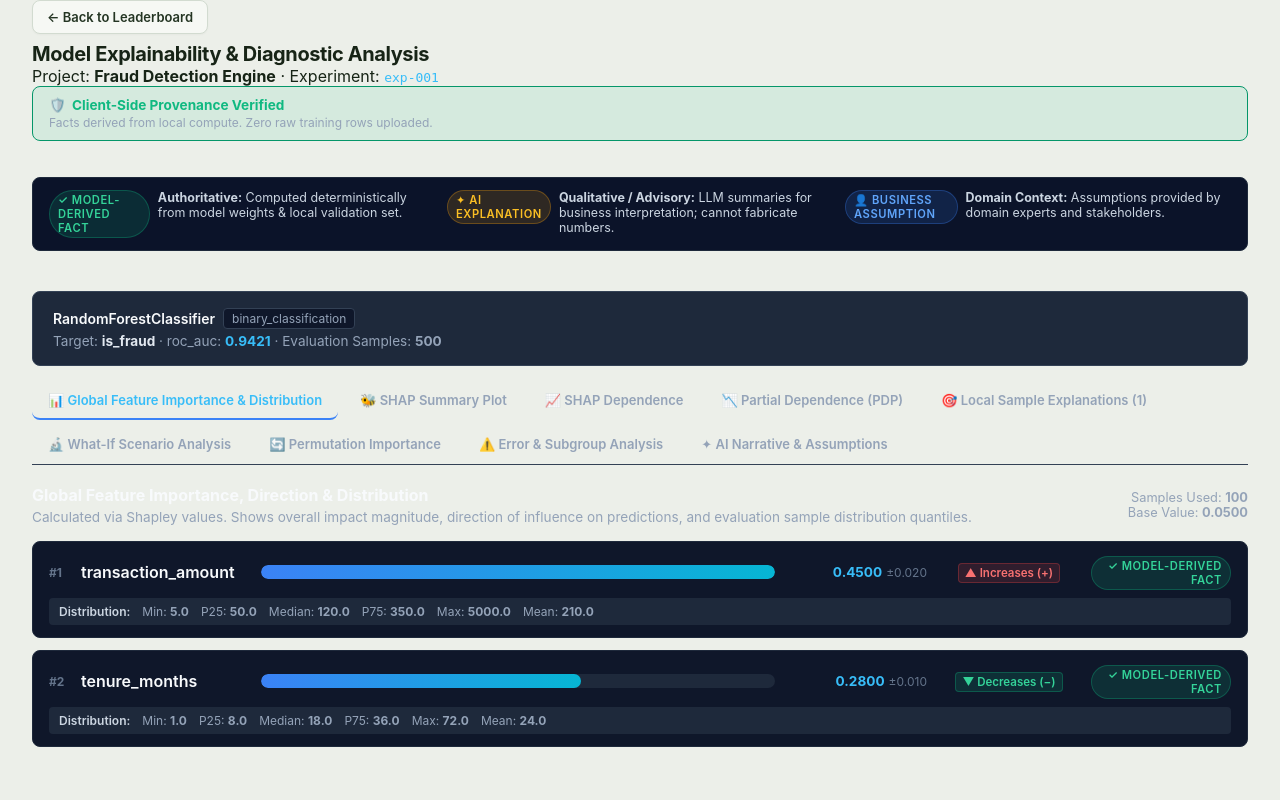
Test: ExplainabilityView › executes What-If scenario analysis and prominently displays the non-causal disclaimer
The image size is (1280, 800).
Expected: the heading "RandomForestClassifier" is shown, x1=53 y1=310 x2=215 y2=327
Note: Switch to What-If Scenario Analysis tab
What coordinates should you click on to do the following:
click the button "🔬 What-If Scenario Analysis"
I would click on:
 (140, 445)
Its box is x1=32 y1=426 x2=247 y2=464.
(page scrolled)
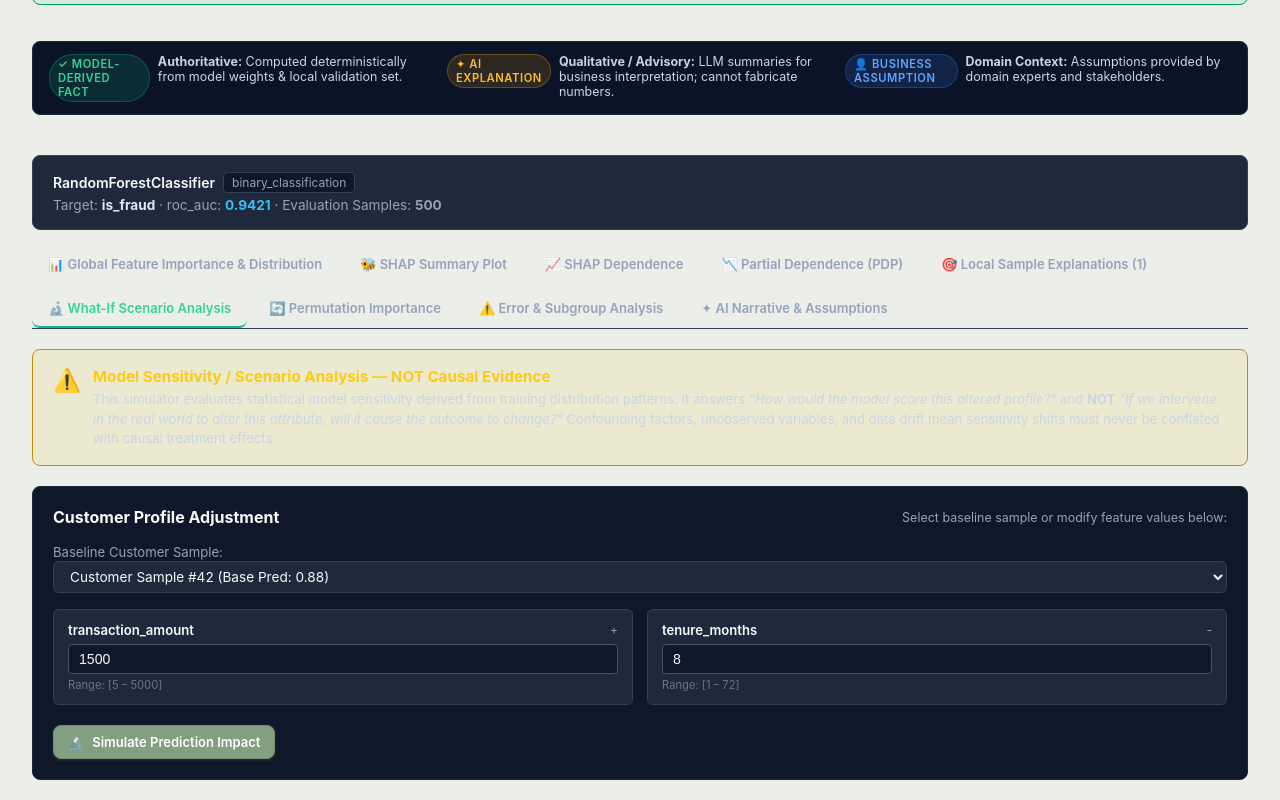
Expected: the text "Model Sensitivity / Scenario Analysis — NOT Causal Evidence" is shown, x1=93 y1=367 x2=550 y2=386
Note: Click Simulate Prediction Impact
What coordinates should you click on to do the following:
click the button "🔬 Simulate Prediction Impact"
I would click on:
 (164, 742)
Its box is x1=53 y1=725 x2=275 y2=759.
(page scrolled)
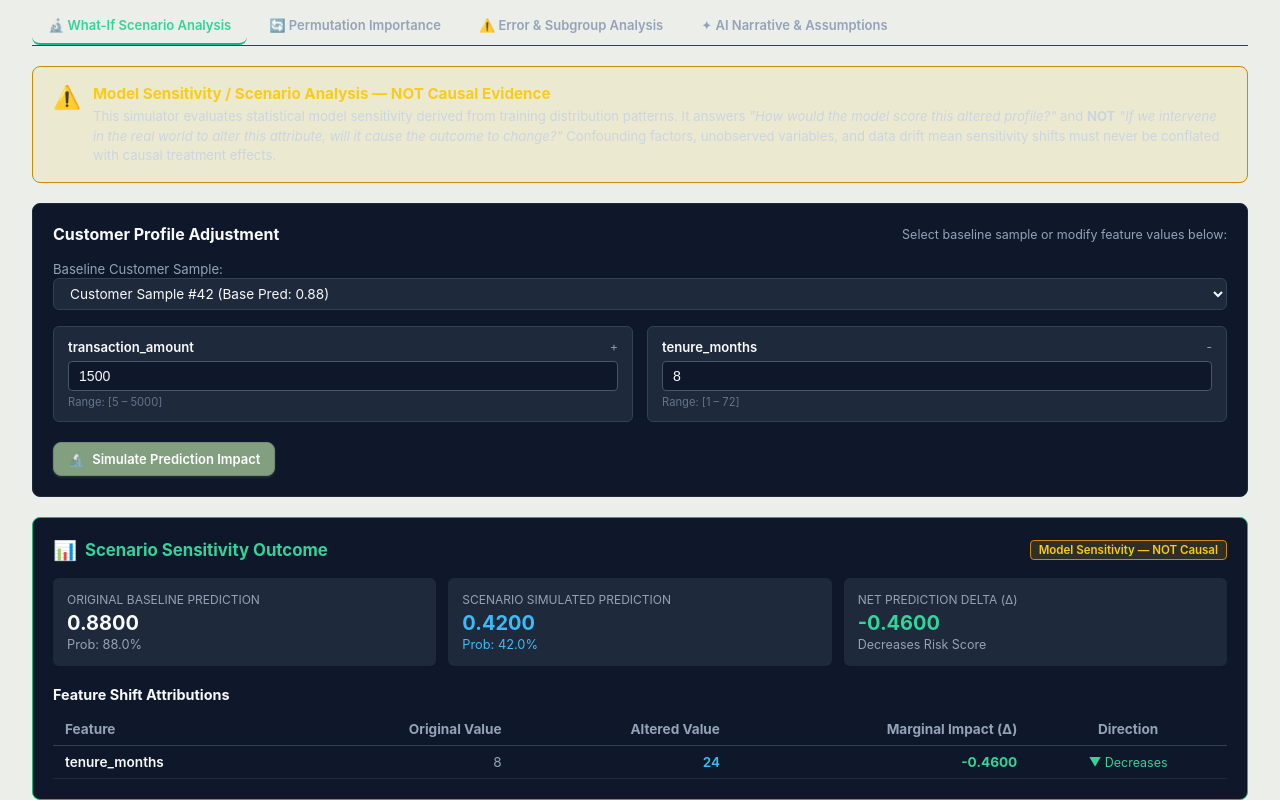
Expected: the heading "Scenario Sensitivity Outcome" is shown, x1=85 y1=540 x2=328 y2=560
Expected: the text "NET PREDICTION DELTA (Δ)" is shown, x1=858 y1=592 x2=1018 y2=607
Expected: the text "-0.4600" is shown, x1=858 y1=611 x2=940 y2=635
